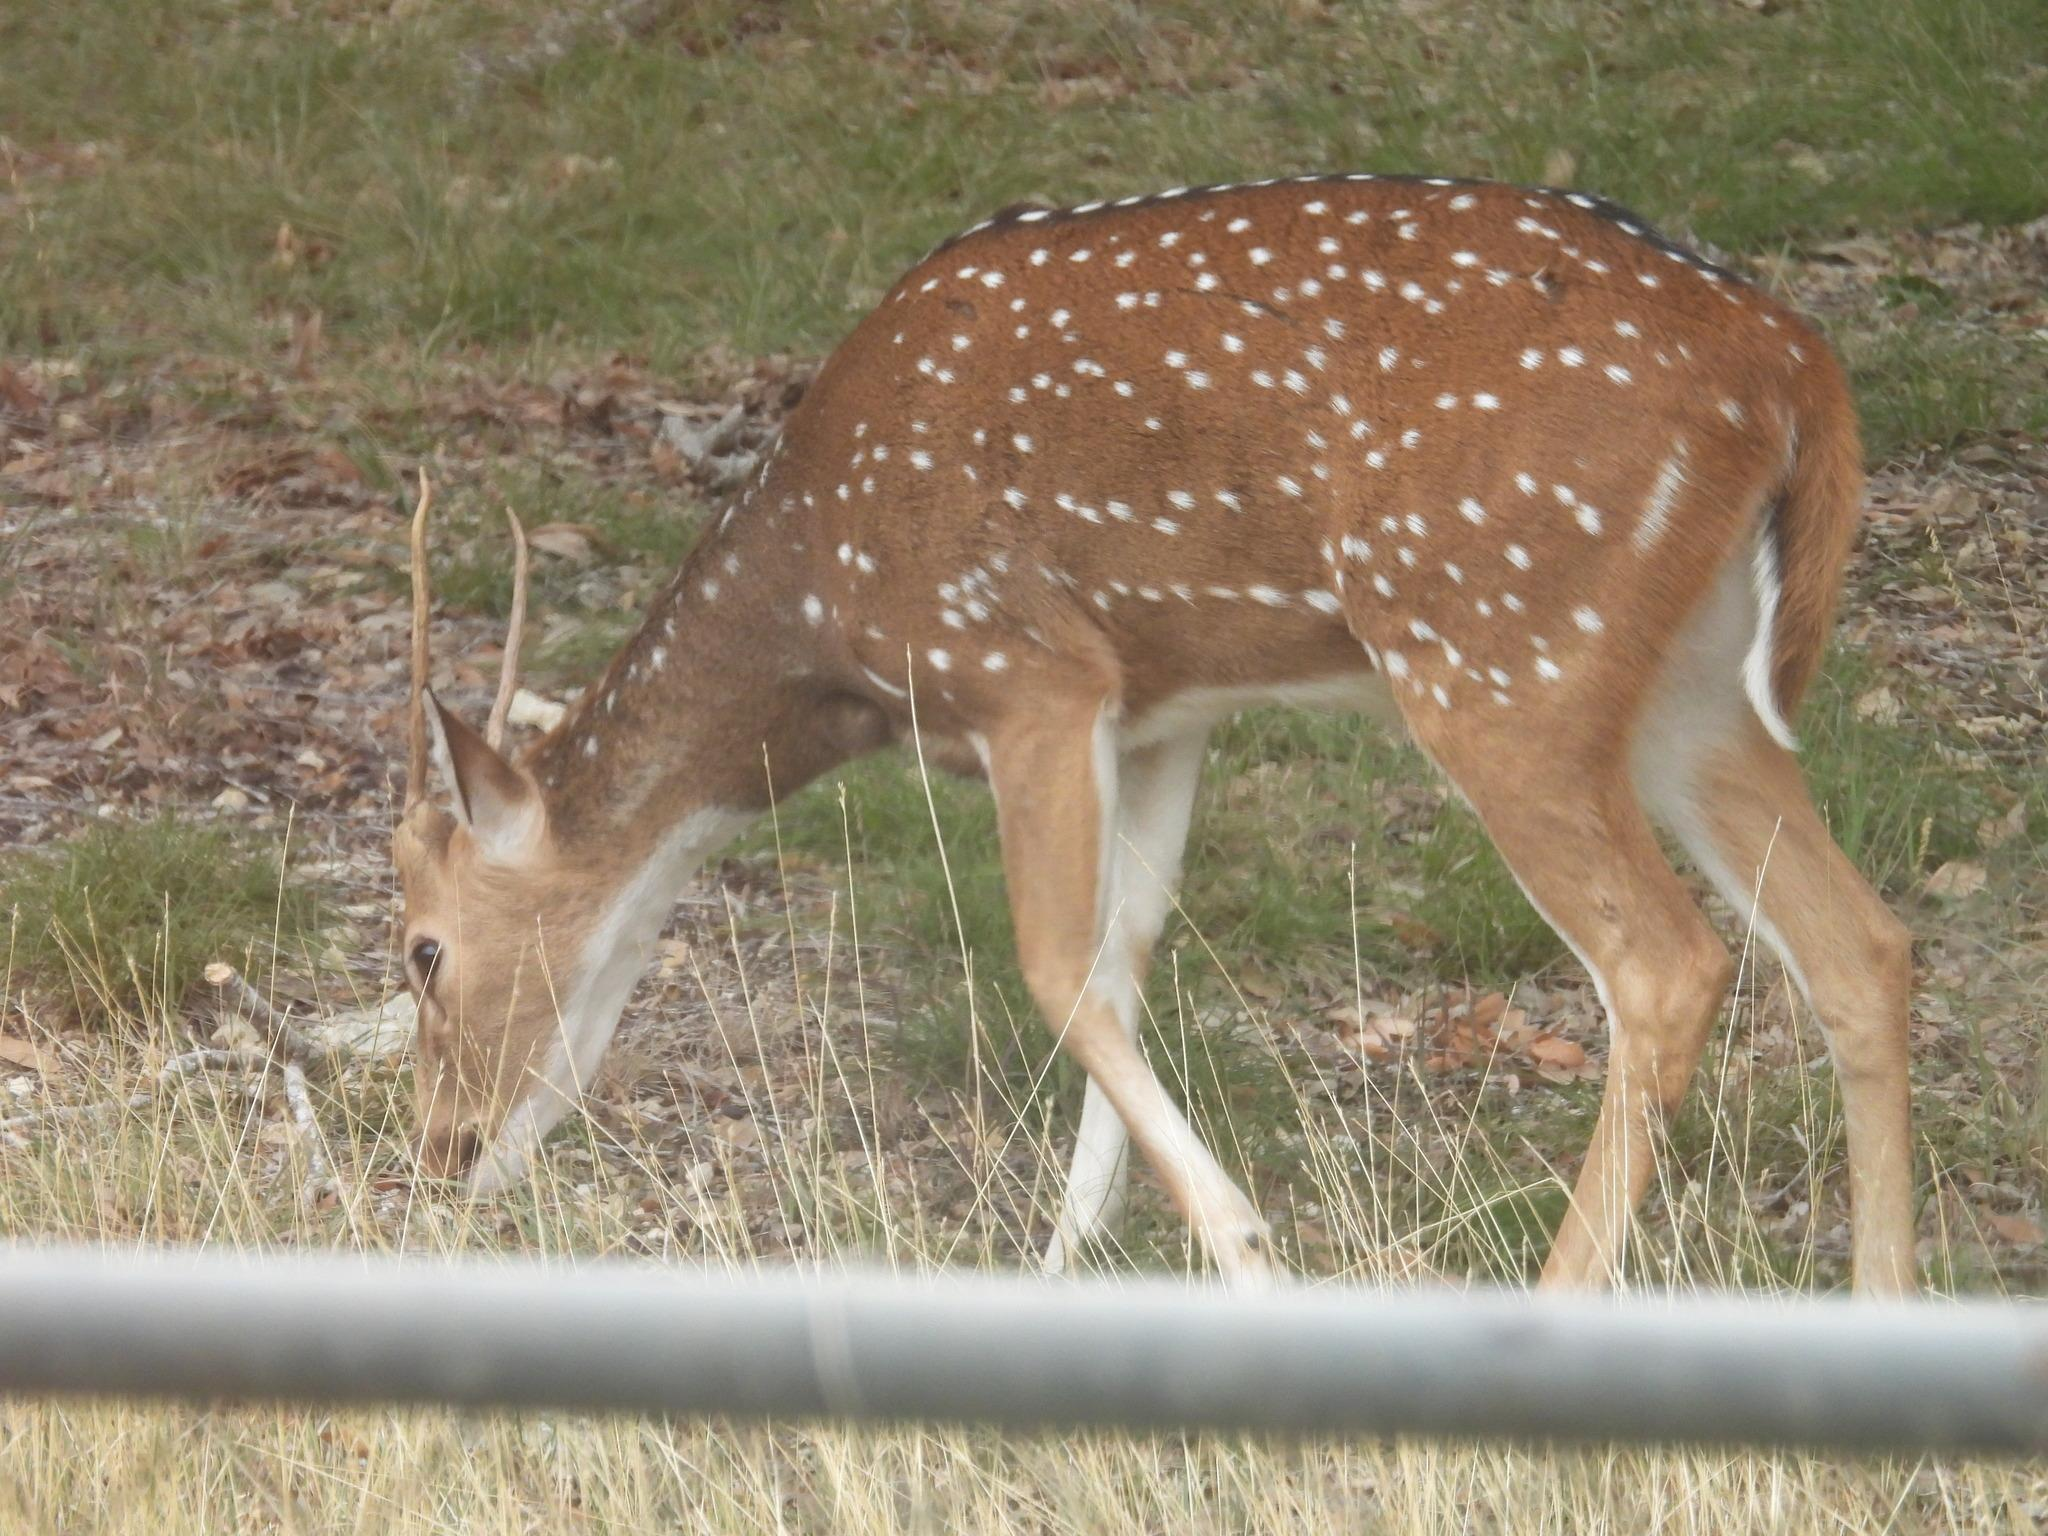Deer: (393, 176, 1914, 1292)
